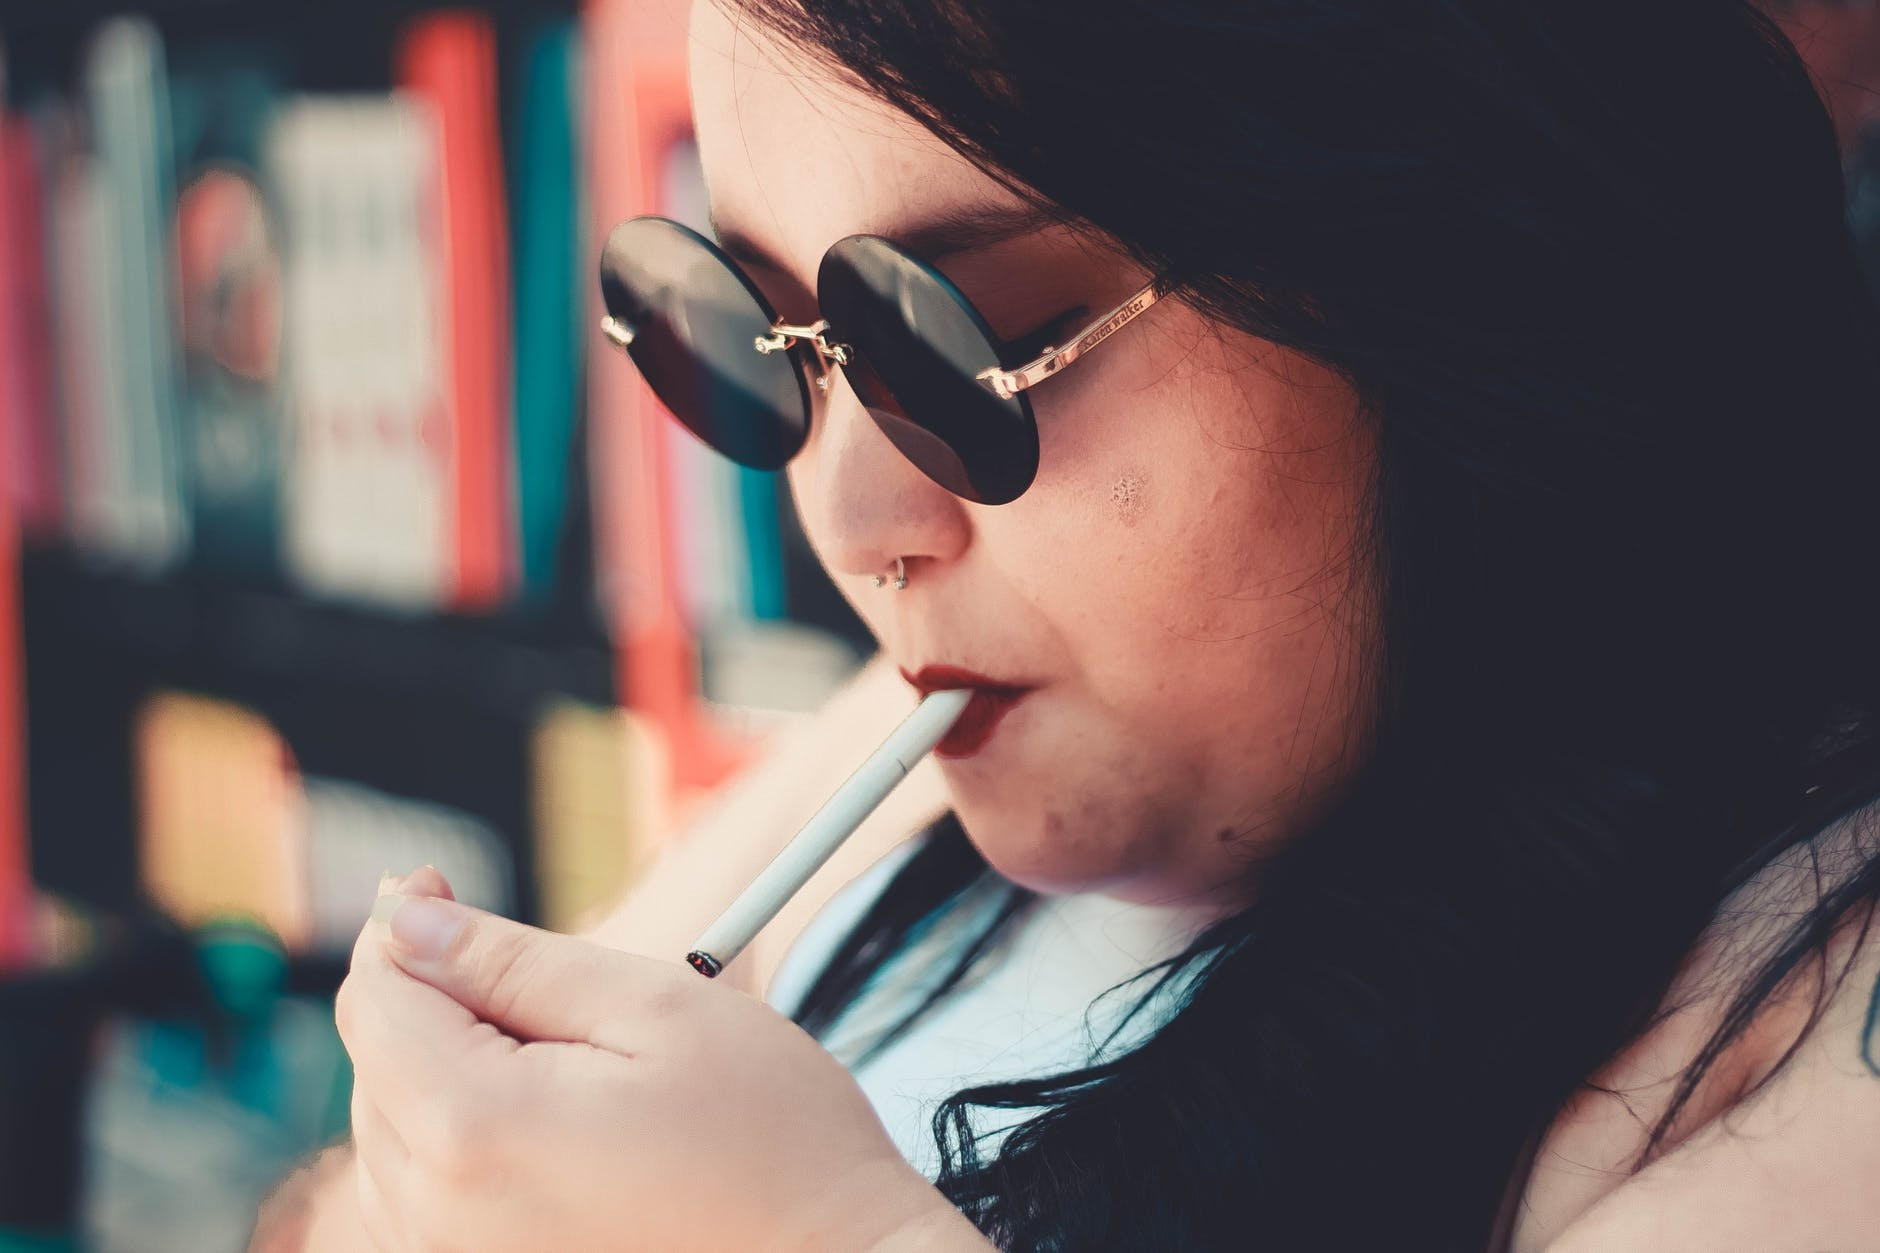sigaretta: (675, 663, 977, 994)
